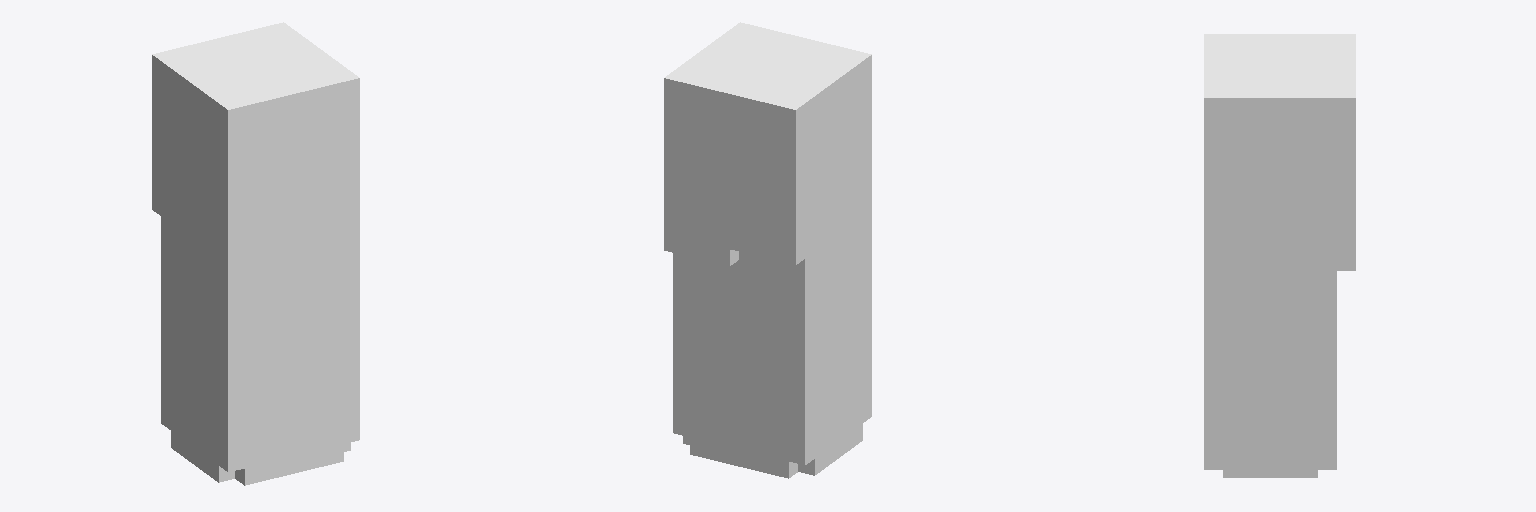
File: male_02-6.obj
The picture shows the model from 3 angles: view 1: azimuth 30°, elevation 25°; view 2: azimuth 150°, elevation 25°; view 3: azimuth 270°, elevation 25°; orthographic projection.
Visible parts, largest first — view 1: male_02-6; view 2: male_02-6; view 3: male_02-6.
Part boxes in pixels (bbox=[...]): male_02-6: bbox=[152, 22, 359, 485]; male_02-6: bbox=[664, 22, 871, 478]; male_02-6: bbox=[1204, 34, 1355, 477].
Bounding box in the file's own units: 8 × 22 × 8.